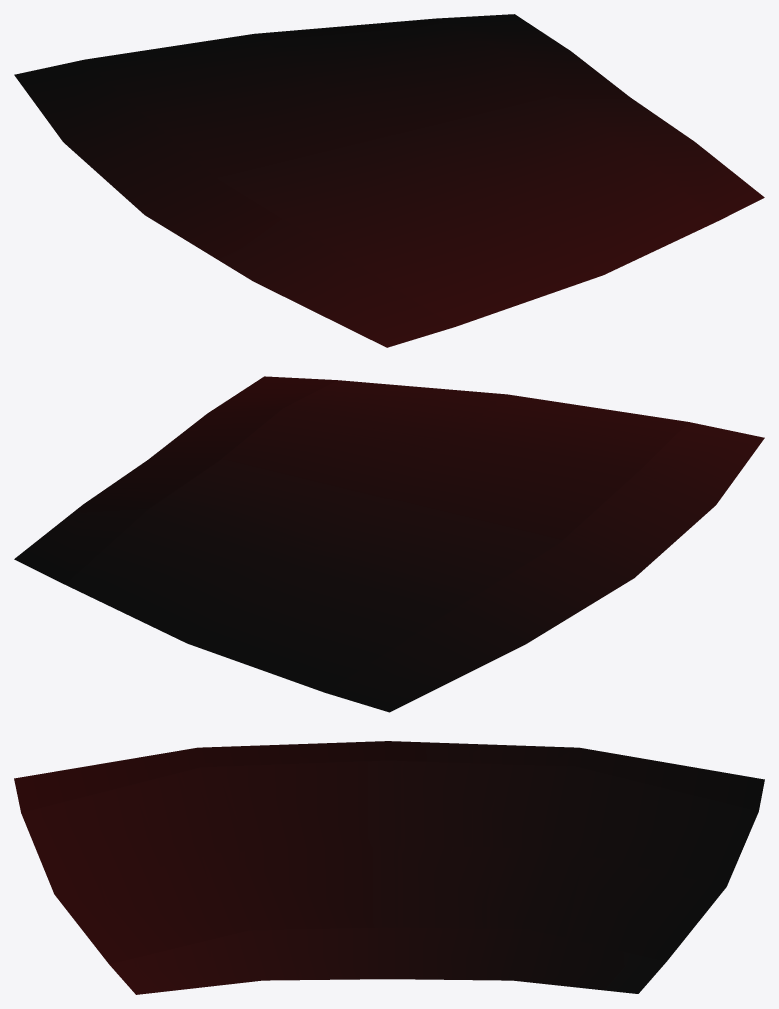
The model's file is FX_Water_Rapids_01.fbx.
3 renders of one model, top to bottom at view 1: azimuth 30°, elevation 25°; view 2: azimuth 150°, elevation 25°; view 3: azimuth 270°, elevation 25°, orthographic.
Visible parts, largest first — view 1: FX_Water_Rapids_01; view 2: FX_Water_Rapids_01; view 3: FX_Water_Rapids_01.
Part boxes in pixels (x1=…): FX_Water_Rapids_01: x1=14, y1=14, x2=764, y2=347; FX_Water_Rapids_01: x1=14, y1=376, x2=764, y2=712; FX_Water_Rapids_01: x1=14, y1=741, x2=764, y2=994.
Size of the model in its own units: 719 by 39.19 by 941.
